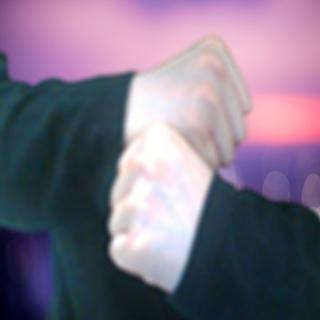CAREFUL: (102, 29, 256, 296)
